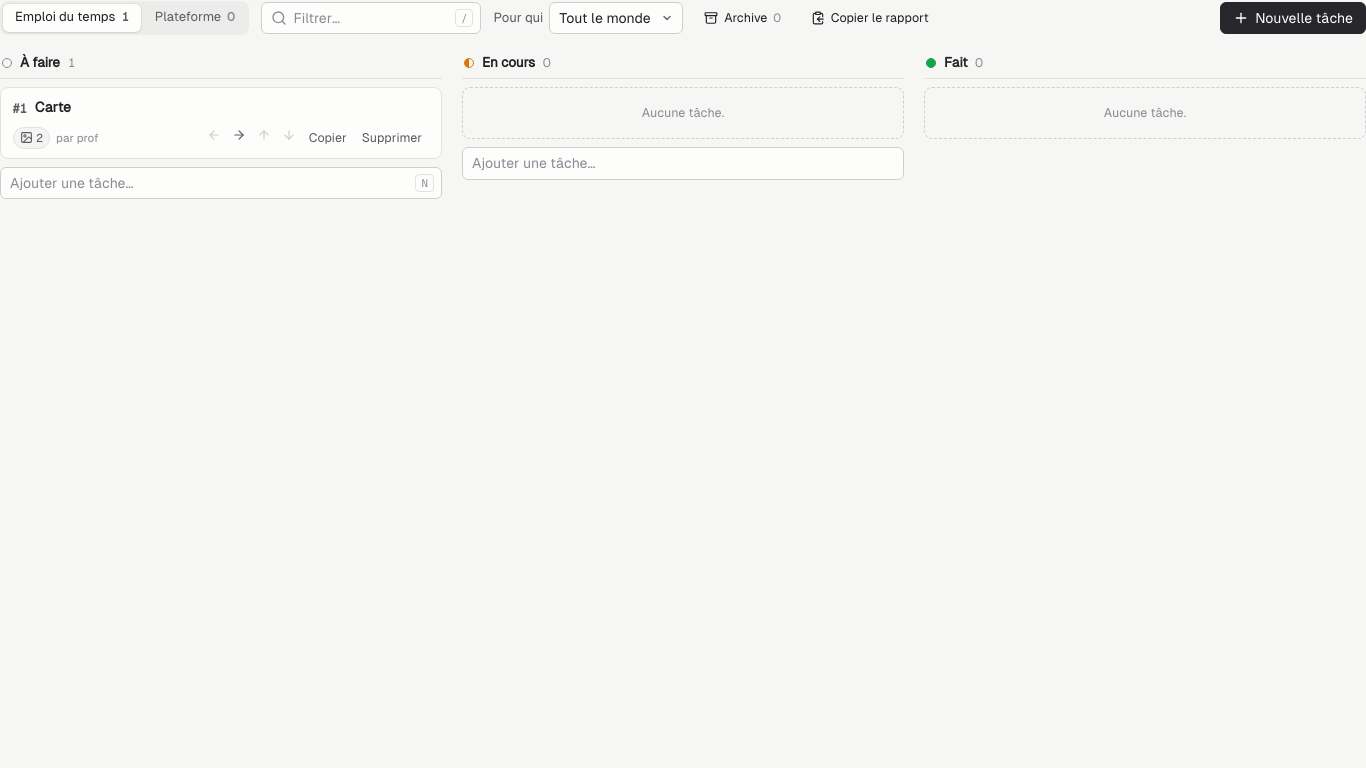
Test: KanbanView — images des tâches › removes an image after a light confirmation
Click the button "Carte" at [53, 107], box [35, 98, 429, 117]
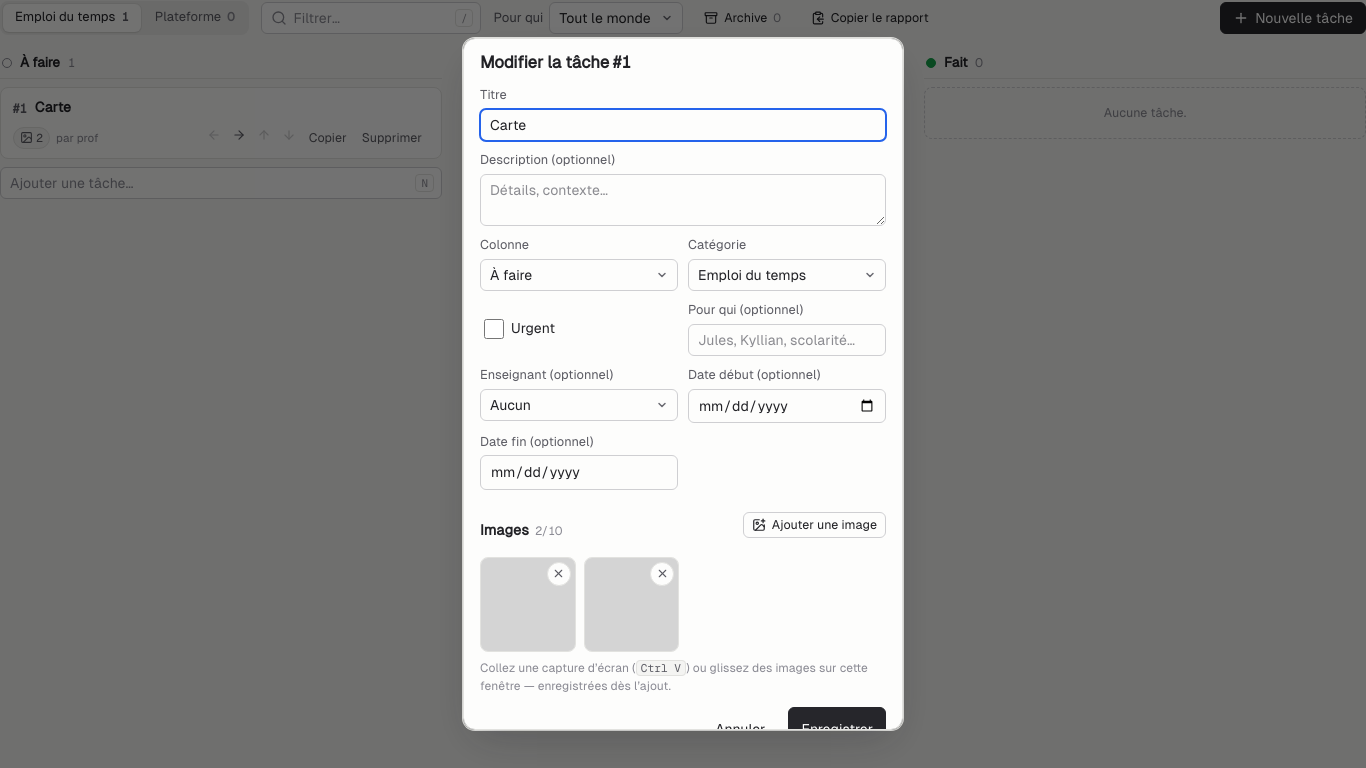
Click the button named "Retirer « a.png »" at [558, 574], box [546, 562, 570, 586]
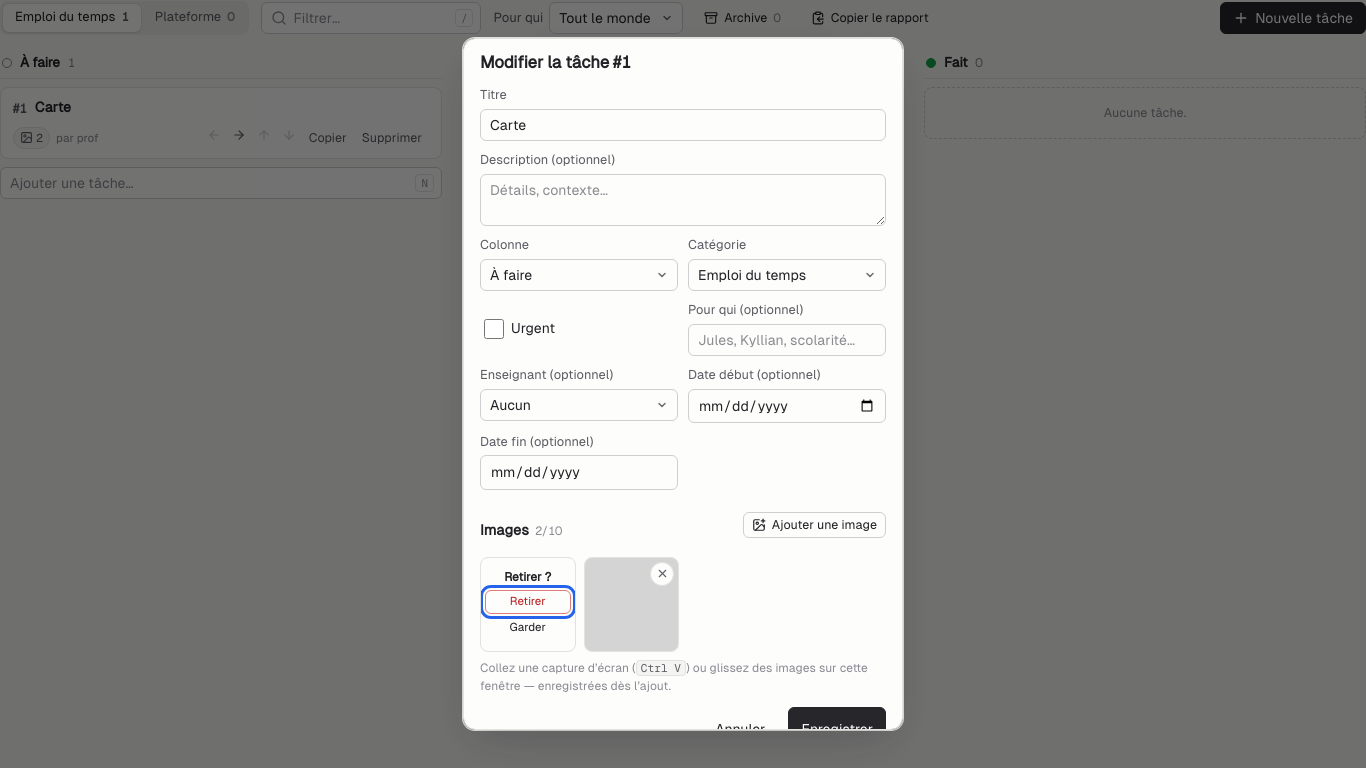
Click the button "Garder" at [528, 628], box [485, 616, 570, 640]
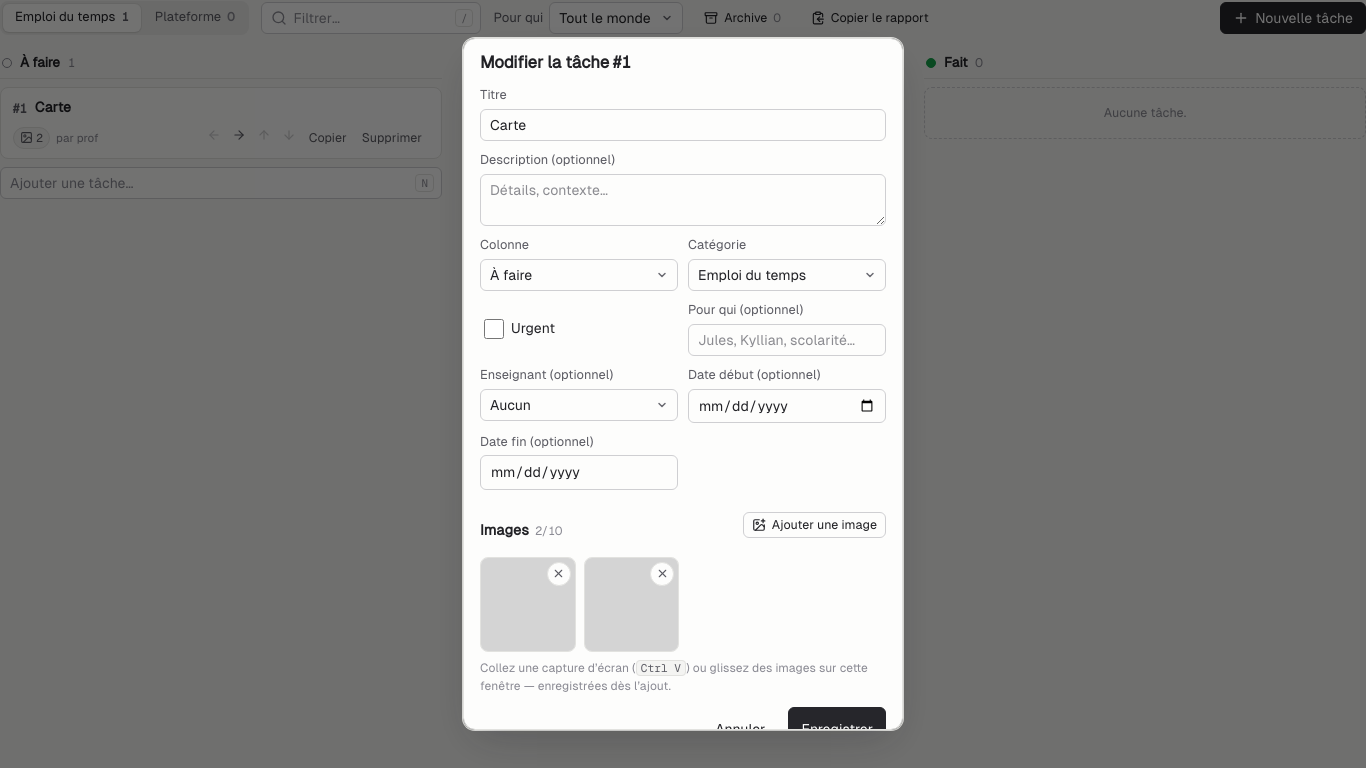
Click the button named "Retirer « a.png »" at [558, 574], box [546, 562, 570, 586]
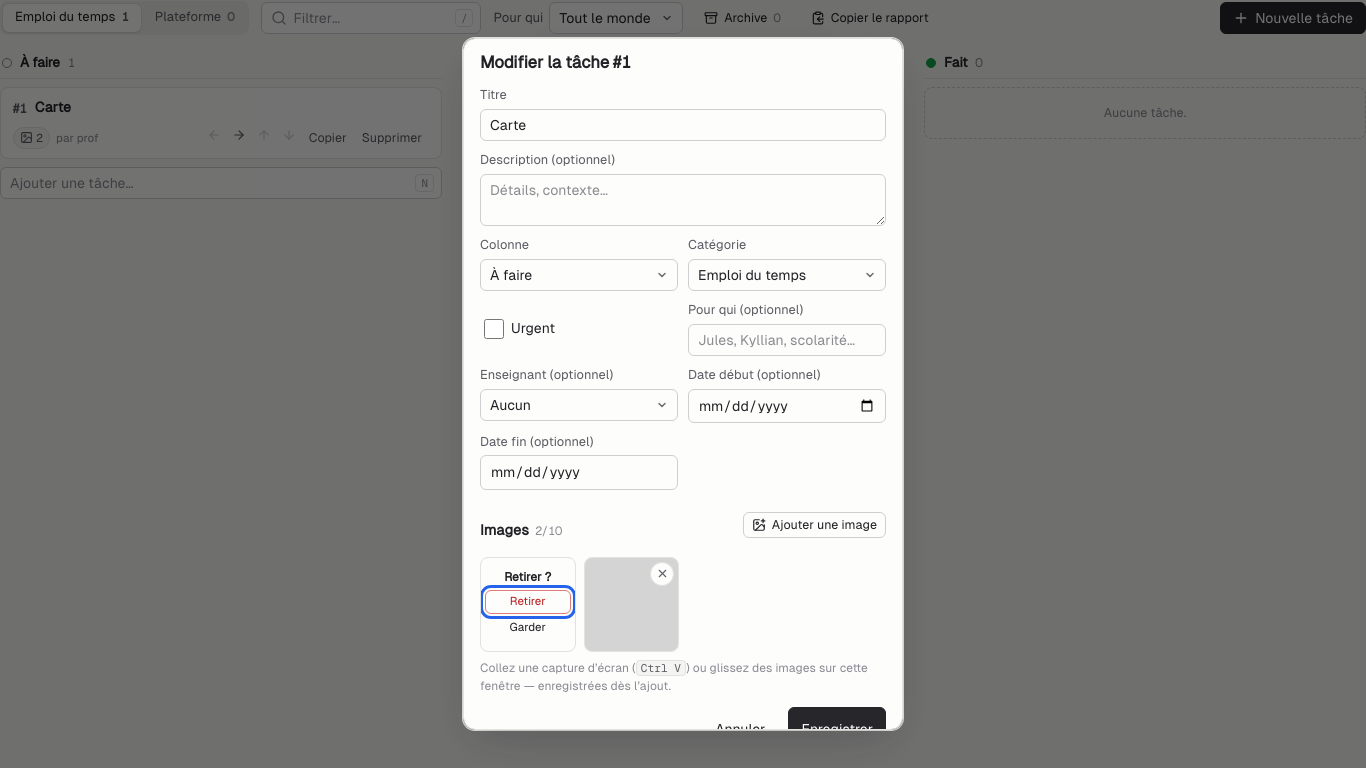
Click the button "Retirer" at [528, 602], box [485, 590, 570, 614]
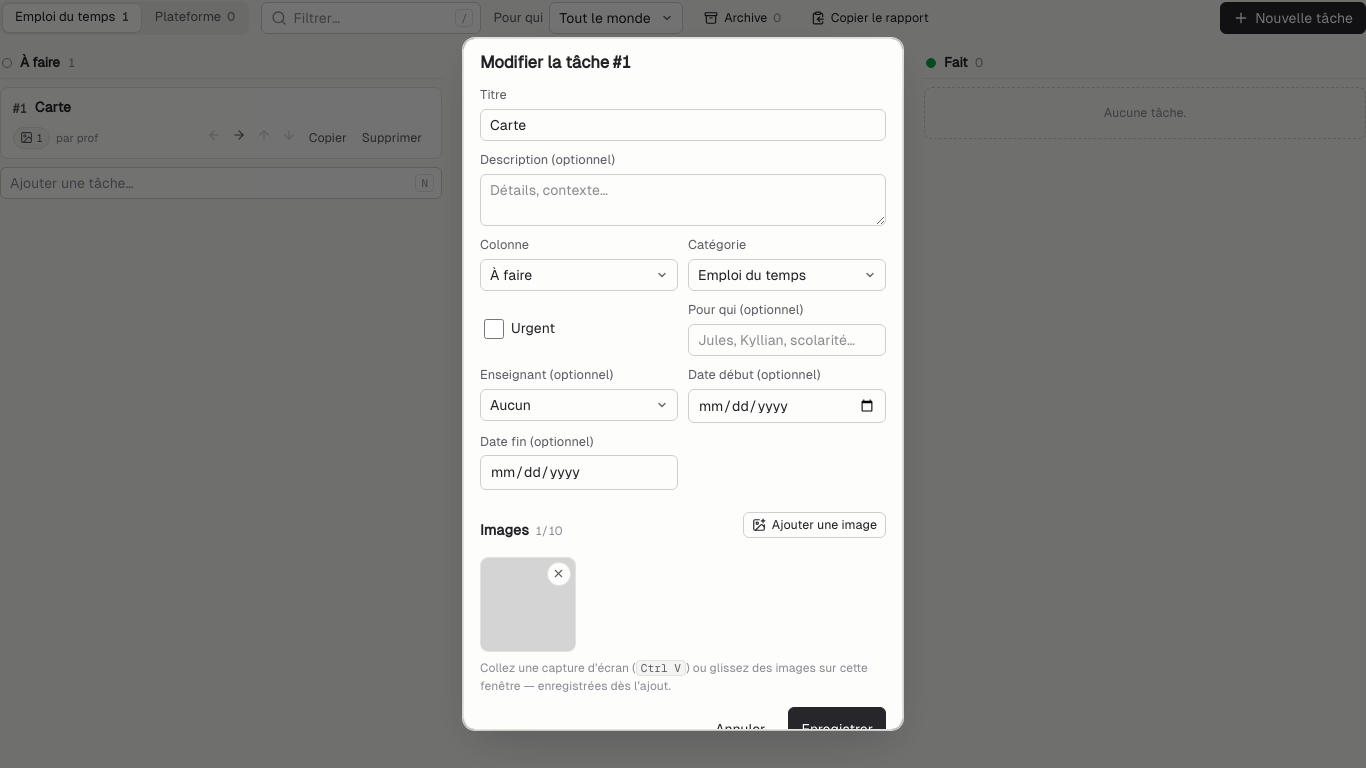
Result: the button named "Voir l’image de « Carte »" reads "1" at [13, 127, 50, 149]
